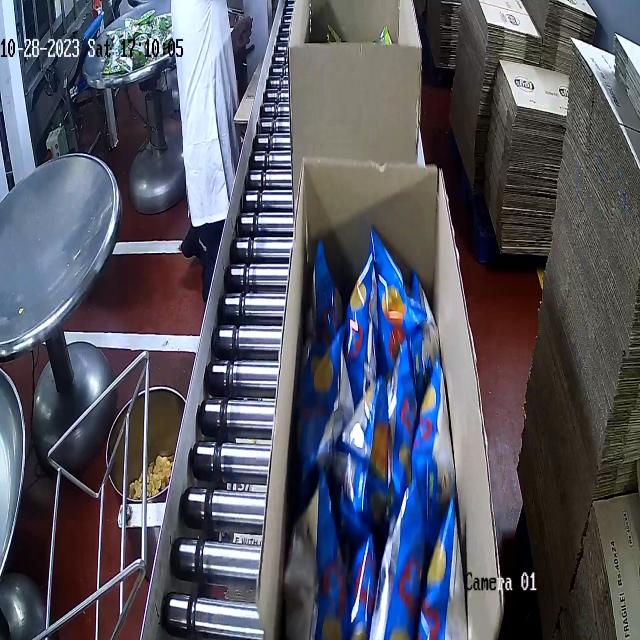PAPRIKA: (301, 262, 469, 639)
